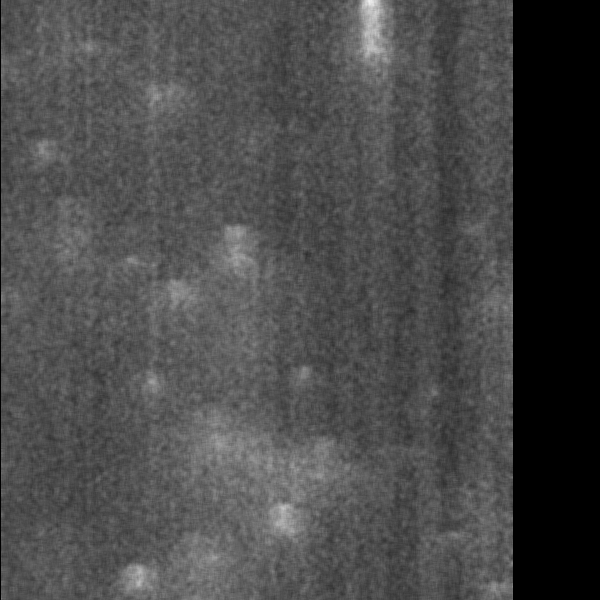spark: (210, 219, 264, 305), (162, 545, 265, 586), (146, 274, 210, 329), (259, 495, 303, 563), (22, 135, 61, 172), (118, 560, 158, 596), (141, 77, 168, 110)
